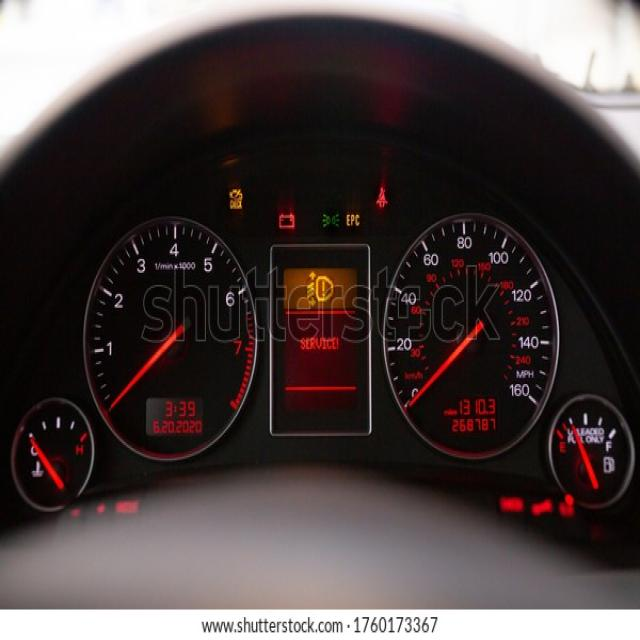Charging System Issue: (278, 212, 296, 230)
